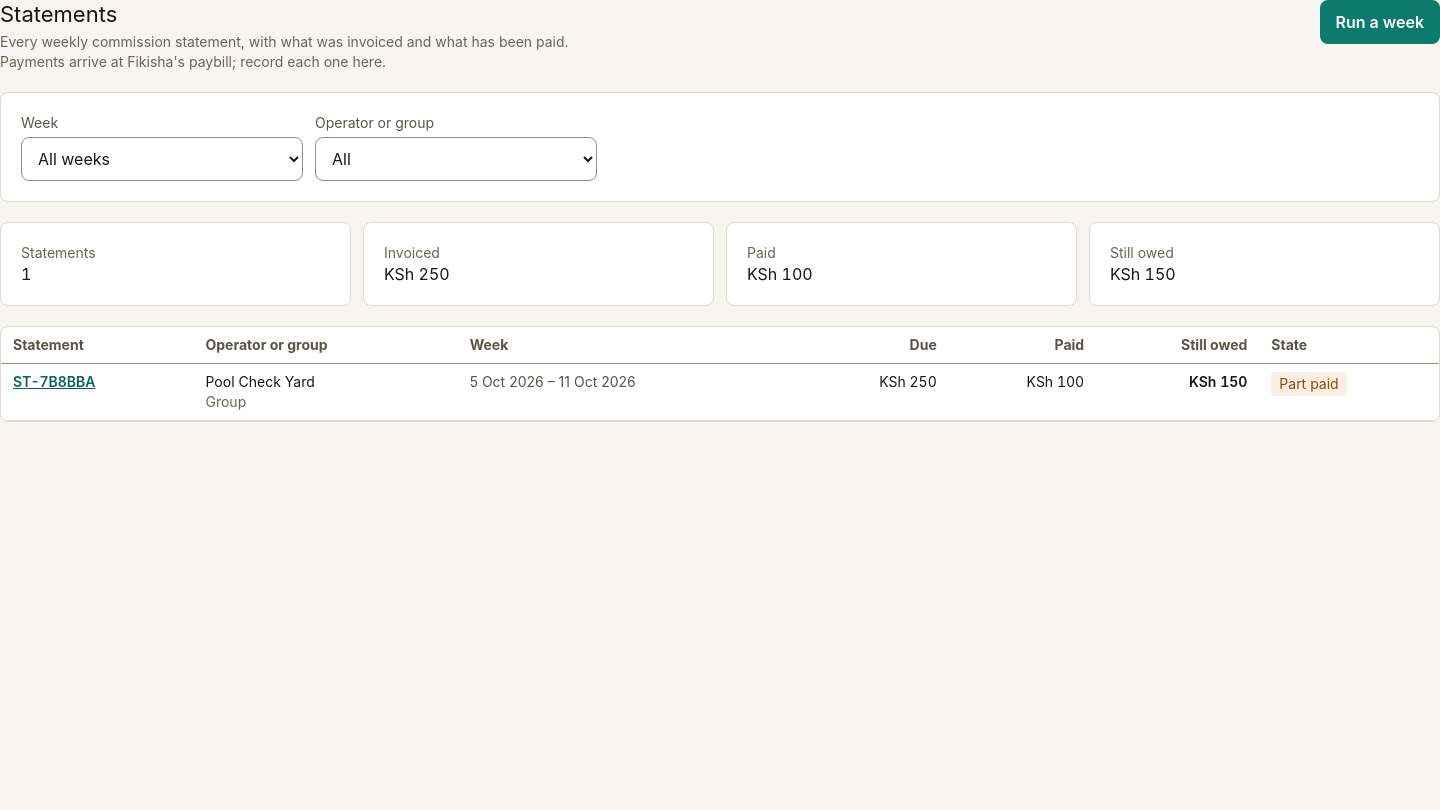
it: AdminStatementsPage › lets a Platform Admin run a finished week
Click the button "Run a week". click: (1380, 22)
box: 1320,0 -> 1439,44
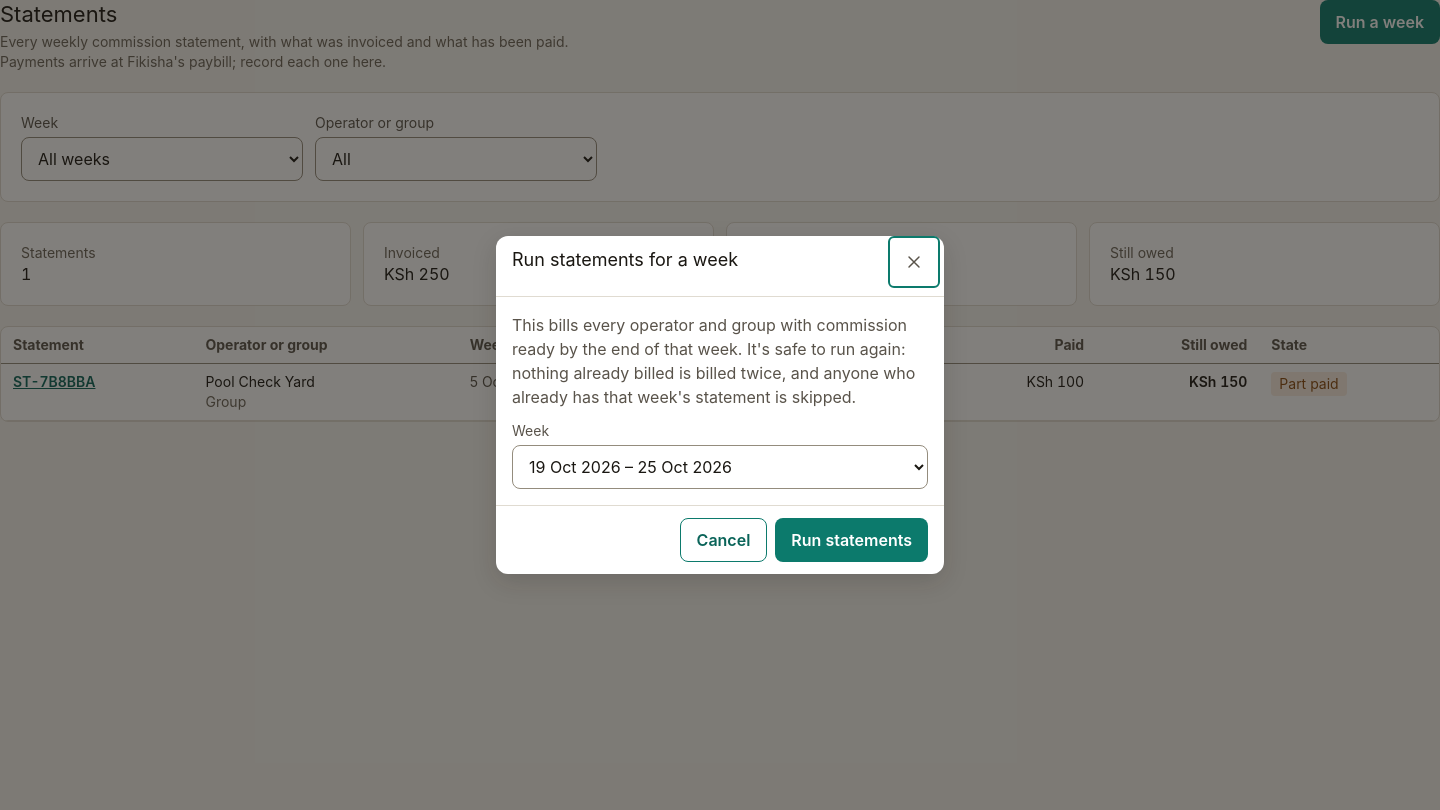
Click the button "Run statements". click: (852, 540)
box: 775,518 -> 928,562
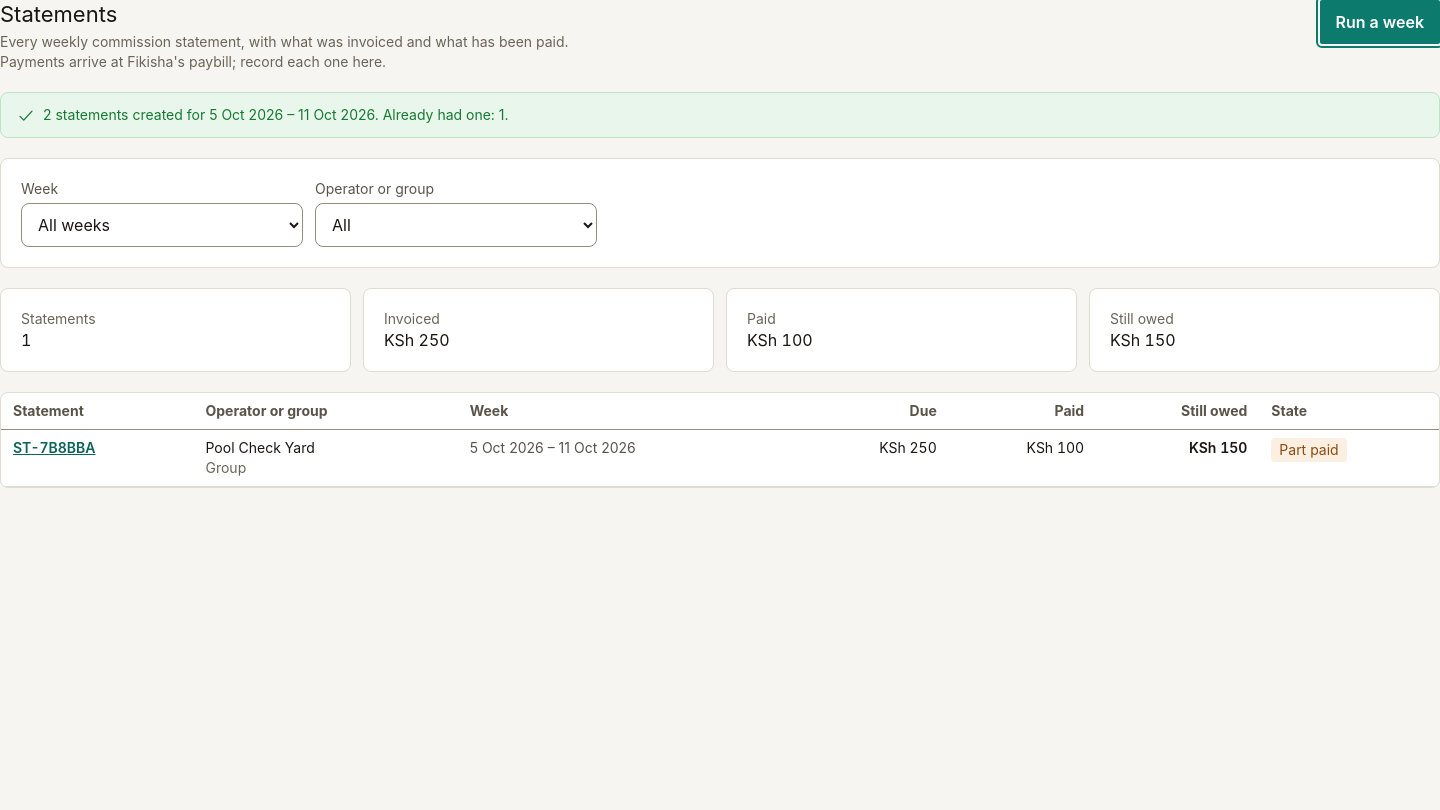
Expected: the text "2 statements created" is shown, 43,106 -> 509,123
